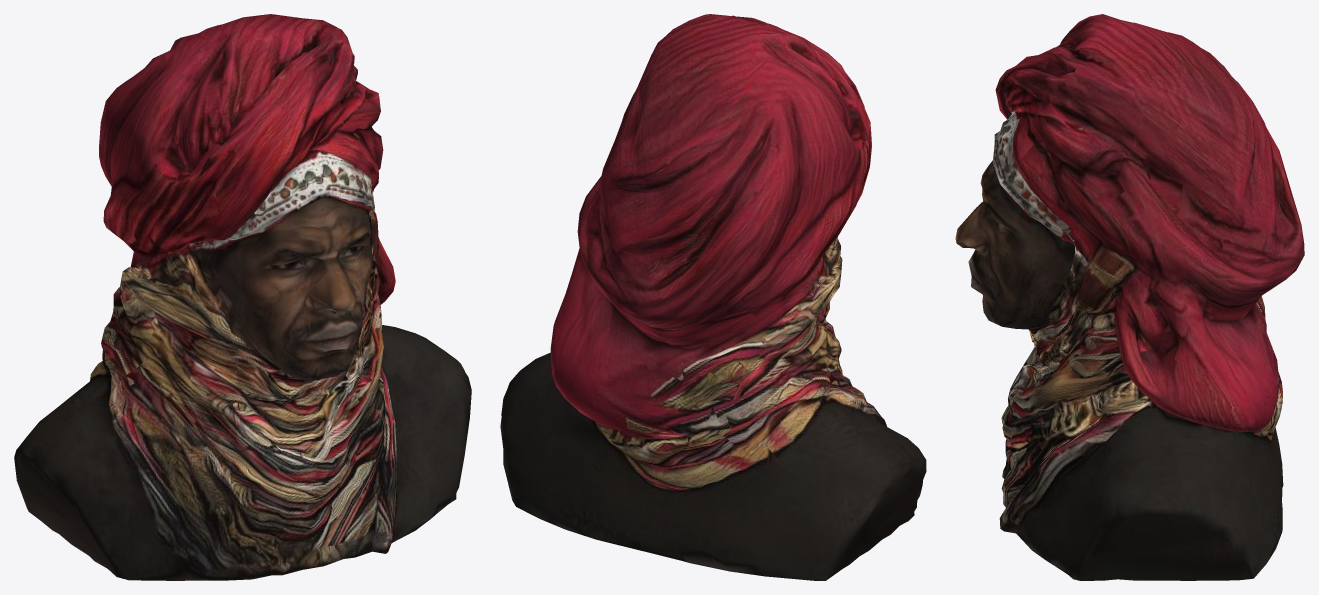
Rendered from Askia_Mohamed_real.glb.
3 views of the same model, side by side, from view 1: azimuth 30°, elevation 25°; view 2: azimuth 150°, elevation 25°; view 3: azimuth 270°, elevation 25° (orthographic). The views are drawn at different scales.
Visible parts, largest first — view 1: Meshy_Mesh_0; view 2: Meshy_Mesh_0; view 3: Meshy_Mesh_0.
Part boxes in pixels (x1,y1,x2,y2): Meshy_Mesh_0: (14,14,471,580); Meshy_Mesh_0: (500,14,926,580); Meshy_Mesh_0: (955,14,1304,580).
Size of the model in its own units: 1.69 by 1.92 by 1.29.
1 material, 1 textured.
